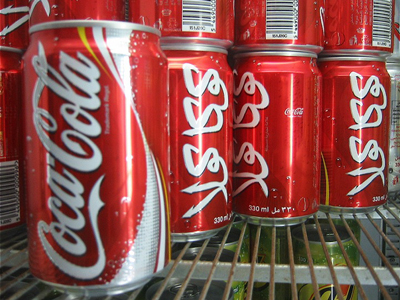can: (14, 16, 178, 296), (153, 43, 245, 249), (230, 47, 329, 230), (316, 55, 395, 214)
